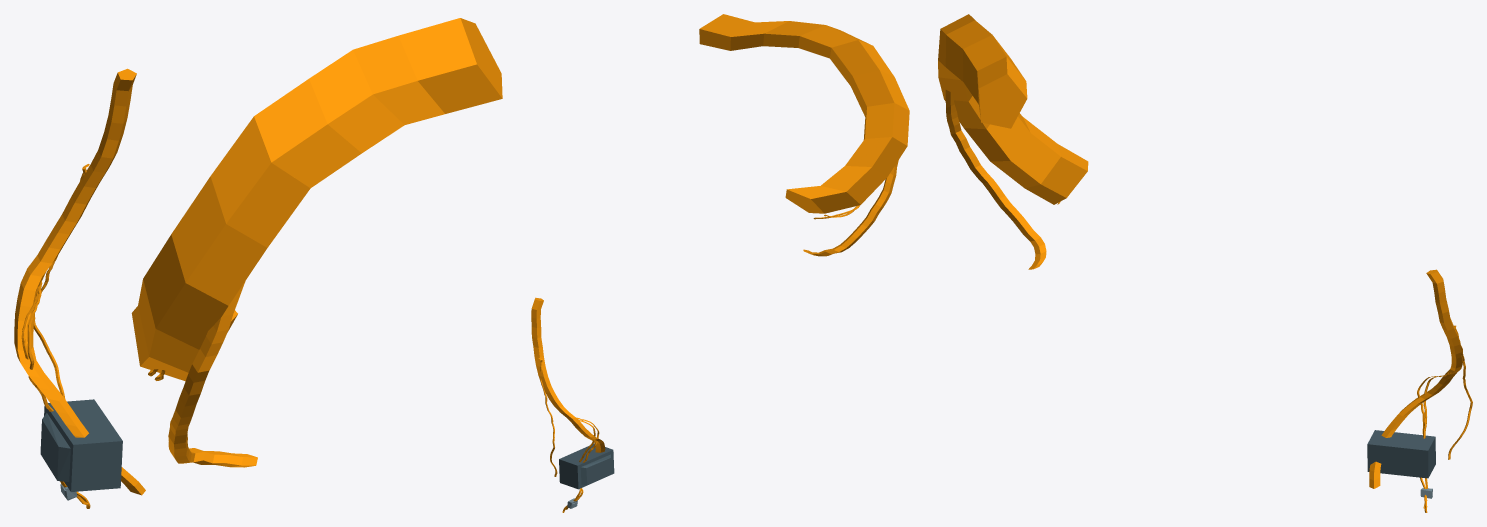
The picture shows the model from 3 angles, left to right: view 1: azimuth 30°, elevation 25°; view 2: azimuth 150°, elevation 25°; view 3: azimuth 270°, elevation 25°; orthographic projection. The views are drawn at different scales.
Parts seen in each view (by area): view 1: group_1625032579, group_411990215, mesh_517653671, group_671003362, group_787704948; view 2: group_1625032579, mesh_517653671, group_411990215, group_671003362; view 3: group_1625032579, mesh_517653671, group_671003362, group_411990215.
Part boxes in pixels (bbox=[...]): group_1625032579: bbox=[131, 18, 502, 381]; group_411990215: bbox=[14, 68, 145, 495]; mesh_517653671: bbox=[40, 399, 122, 491]; group_671003362: bbox=[168, 281, 257, 467]; group_787704948: bbox=[33, 164, 89, 399]; group_1625032579: bbox=[699, 14, 909, 213]; mesh_517653671: bbox=[559, 443, 614, 489]; group_411990215: bbox=[531, 297, 605, 452]; group_671003362: bbox=[803, 160, 898, 256]; group_1625032579: bbox=[938, 14, 1088, 204]; mesh_517653671: bbox=[1367, 430, 1435, 478]; group_671003362: bbox=[945, 90, 1046, 269]; group_411990215: bbox=[1369, 269, 1462, 488].
Bounding box in the file's own units: 108 × 202 × 217.
